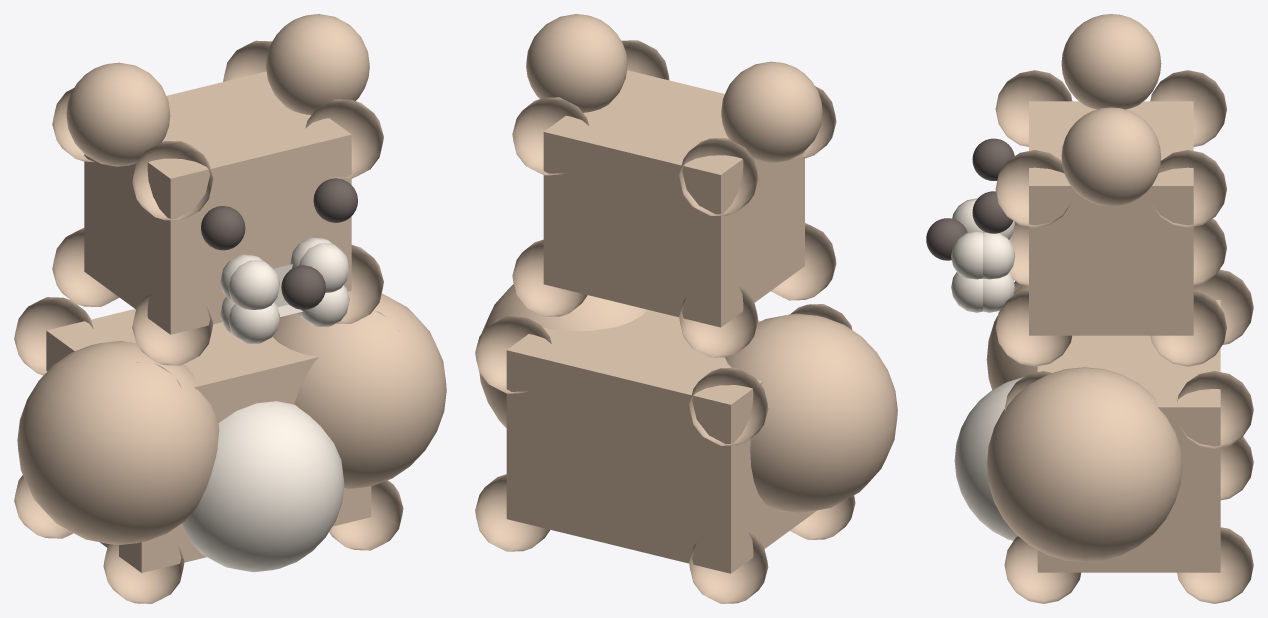
File: bear.glb
3 renders of one model, left to right at view 1: azimuth 30°, elevation 25°; view 2: azimuth 150°, elevation 25°; view 3: azimuth 270°, elevation 25°, orthographic. The views are drawn at different scales.
Parts seen in each view (by area): view 1: bear; view 2: bear; view 3: bear.
Part boxes in pixels (x1,y1,x2,y2): bear: (14, 14, 446, 603); bear: (475, 14, 897, 603); bear: (926, 14, 1253, 603).
Size of the model in its own units: 2.5 by 3 by 1.84.
